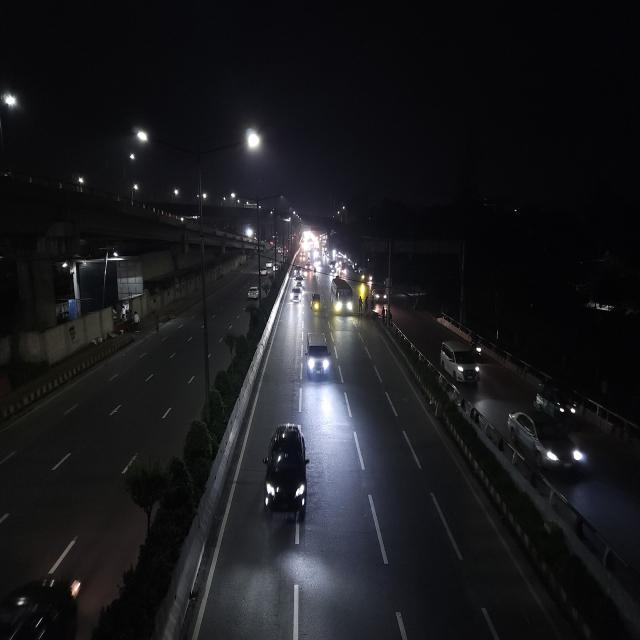bus: (330, 275, 353, 318)
car: (258, 419, 312, 533), (505, 408, 589, 481), (438, 340, 484, 390), (304, 330, 332, 386), (245, 281, 263, 305), (369, 287, 388, 303), (290, 285, 304, 305), (292, 263, 304, 278), (293, 275, 305, 289), (264, 258, 275, 273), (303, 262, 313, 275)
cng: (532, 381, 580, 418), (310, 290, 322, 316)
motorcycle: (472, 338, 488, 361)
pedestrian: (357, 296, 365, 316), (364, 295, 369, 314), (382, 307, 385, 327)
